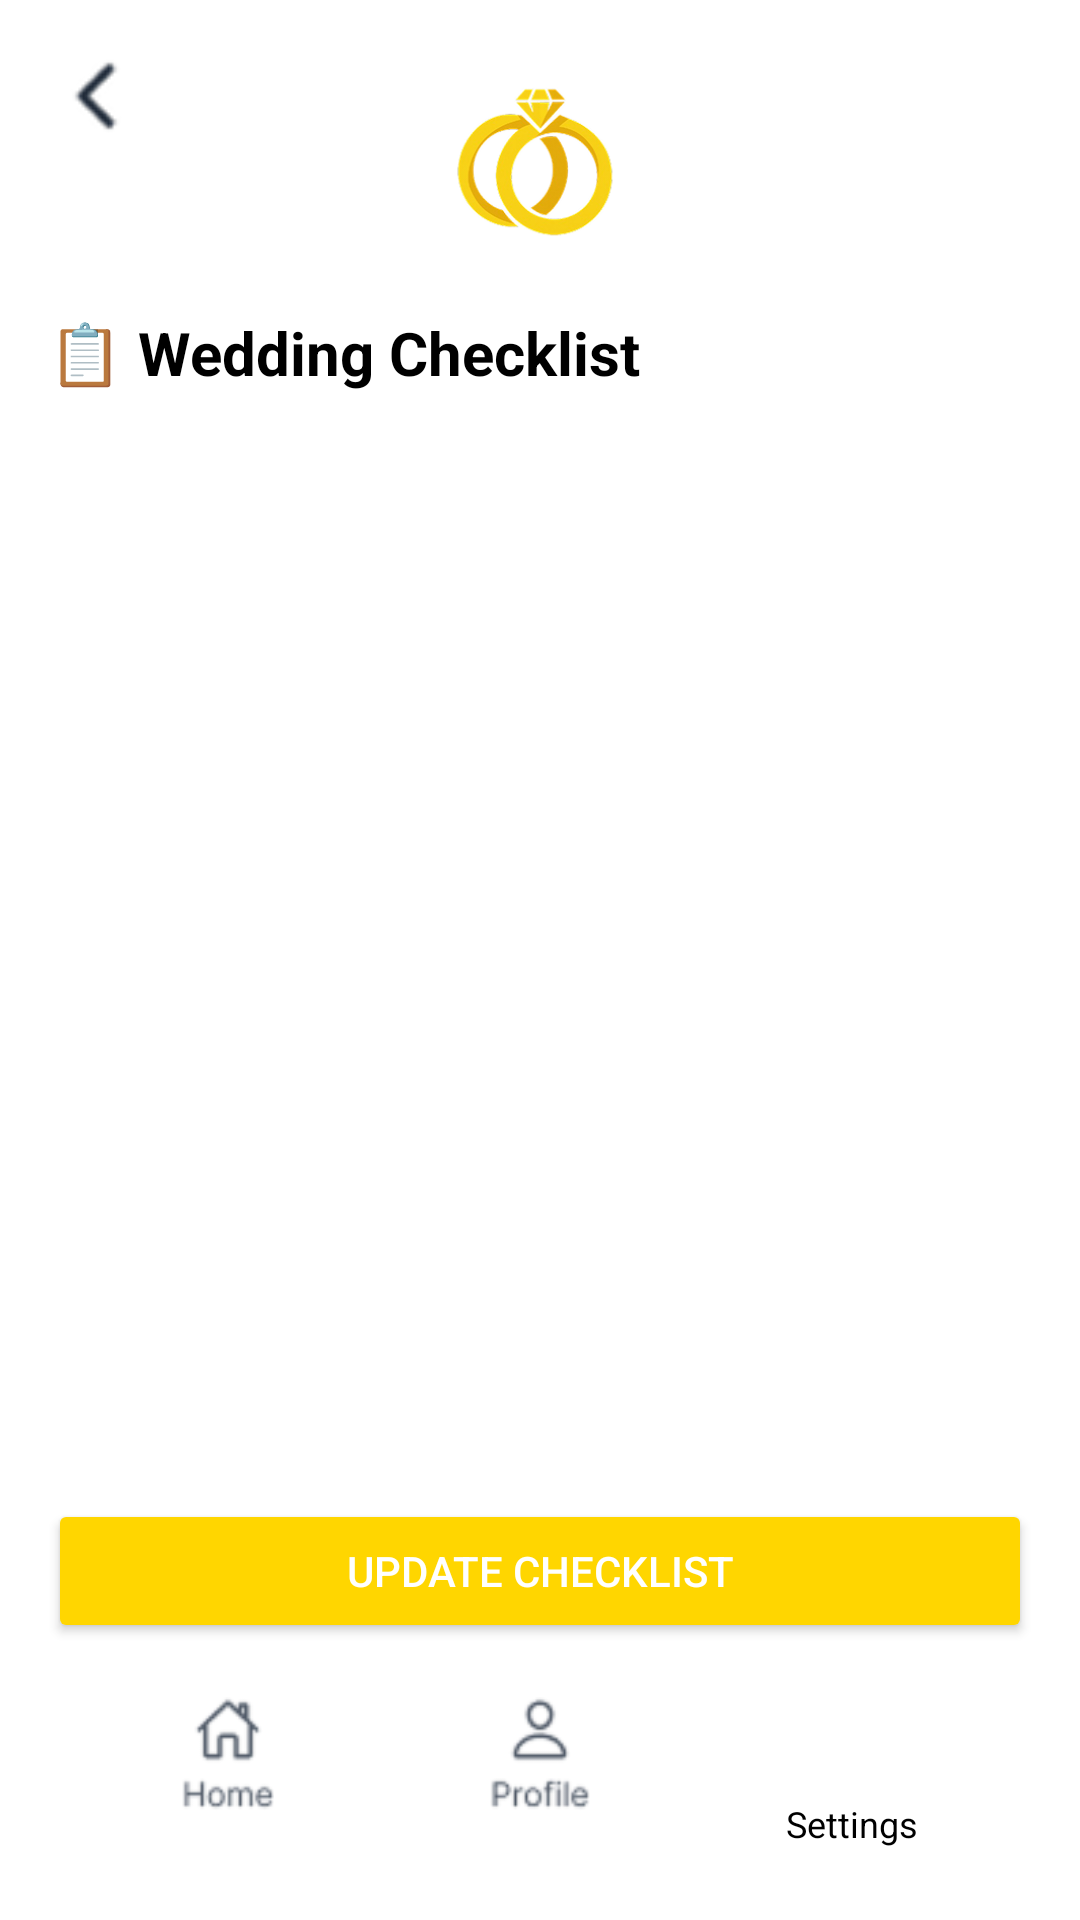

Where to tap for icons on this 1080 × 1920 app screen, as point (x, y):
Back: point (96, 96)
